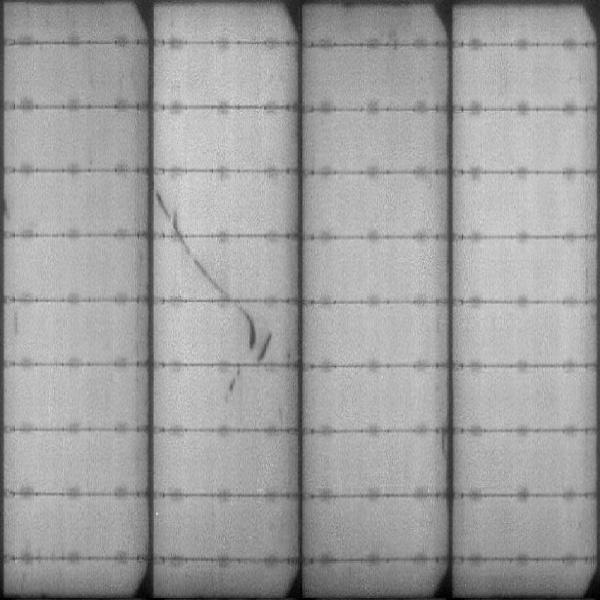scratch: (178, 237, 232, 297), (154, 191, 183, 233), (235, 304, 256, 356), (222, 368, 242, 399), (258, 332, 271, 363)
